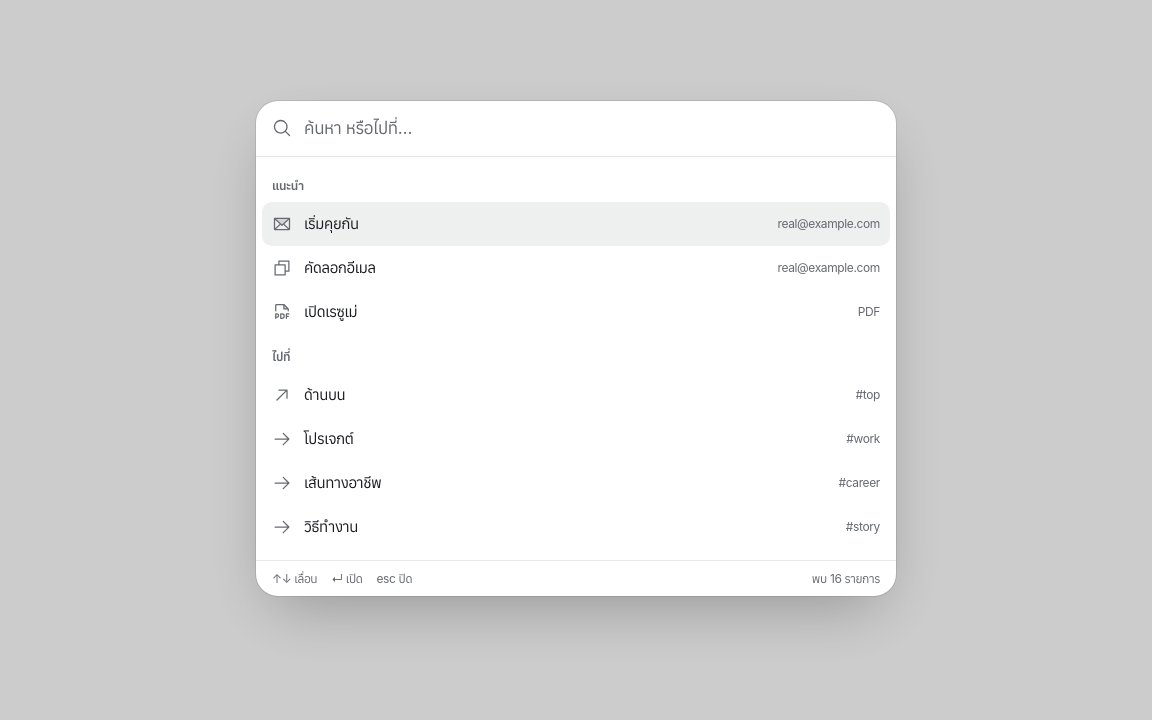
it: CommandPalette › keeps the Thai count and ready line as they were: Thai has no plural (T12 m1)
Type "gonai" into the dropdown at (592, 128), box [304,101,880,156]
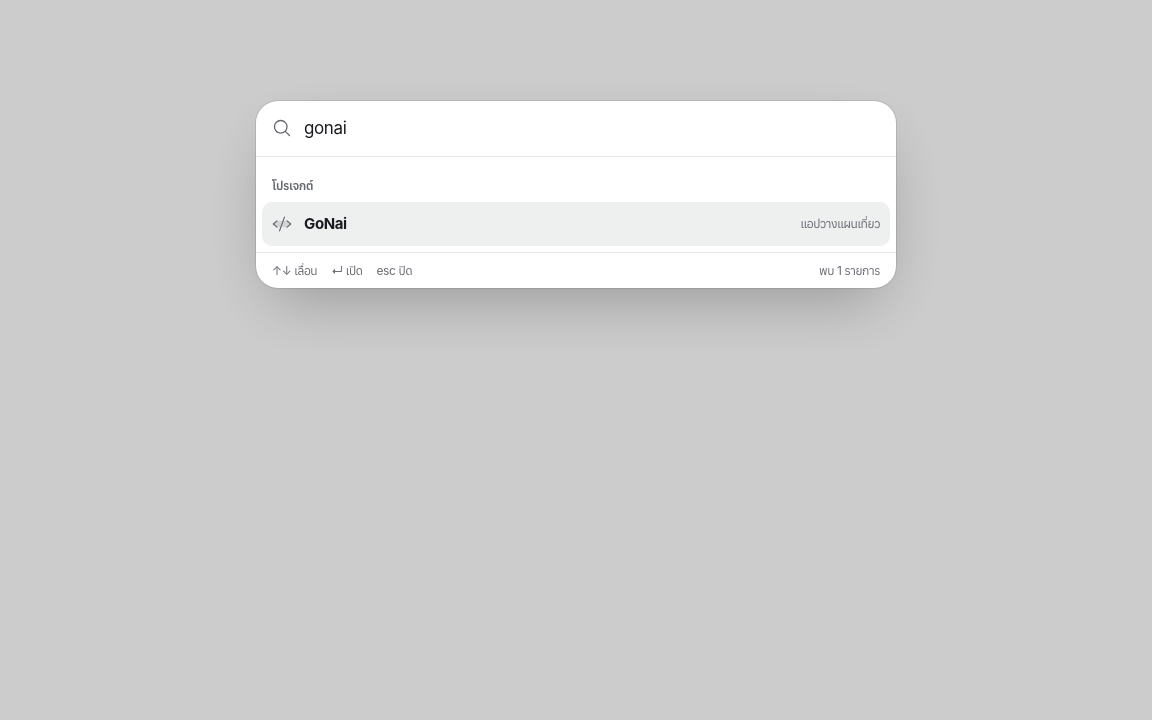
Expected: the number of options is 1, [262,202,890,246]
Expected: the element with class "ck-foot" shows "พบ 1 รายการ", [819,263,880,278]
